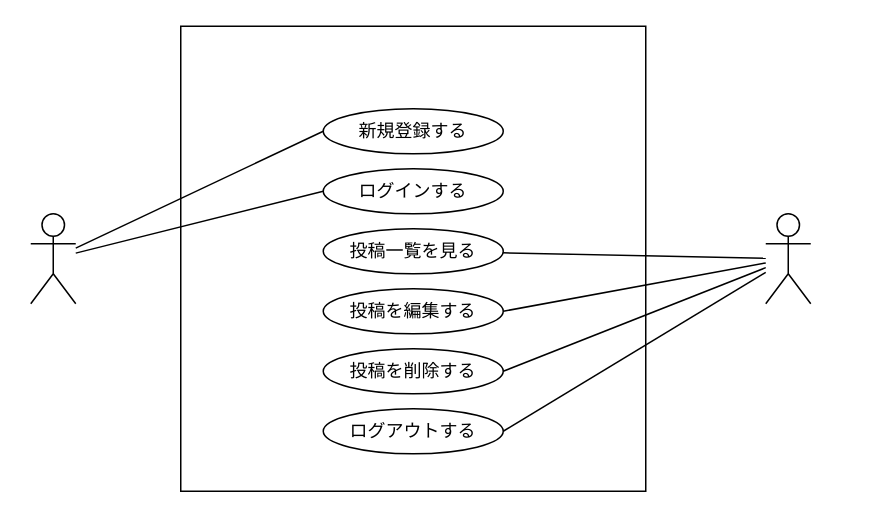
The diagram is 894 pixels wide and 518 high, and some of its shapes have lost their labels. Here are the shapes that lost their labels. From the top down, the box of each, then its label:
(29, 212, 76, 304): 訪問者
(179, 25, 646, 491): 投稿アプリ
(764, 212, 811, 304): ログイン済み利用者
